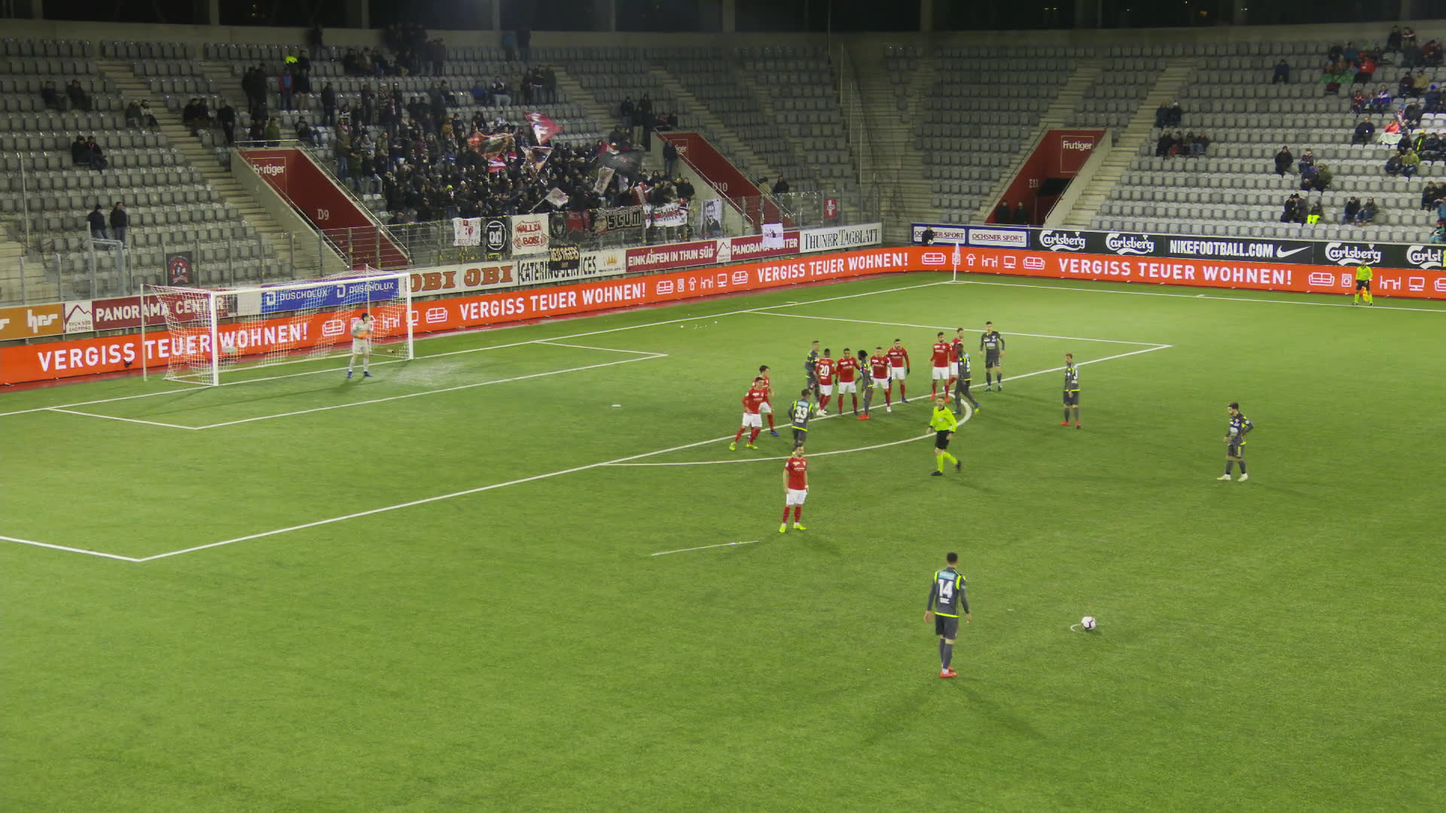ball: (1080, 614, 1096, 631)
player: (924, 549, 972, 679), (1215, 400, 1255, 483), (728, 376, 768, 452), (777, 443, 809, 534), (746, 364, 781, 440), (950, 343, 981, 417), (786, 386, 813, 467), (977, 319, 1006, 394), (833, 347, 862, 416), (1059, 352, 1084, 431), (346, 312, 375, 378), (883, 337, 911, 404), (866, 346, 893, 414), (928, 330, 953, 403), (850, 349, 875, 420), (813, 347, 837, 417), (941, 326, 964, 392), (801, 339, 822, 410)
referee: (926, 394, 969, 478), (1351, 257, 1373, 306)
